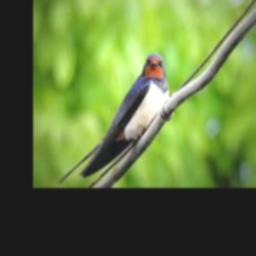Swallow: (57, 52, 170, 185)
